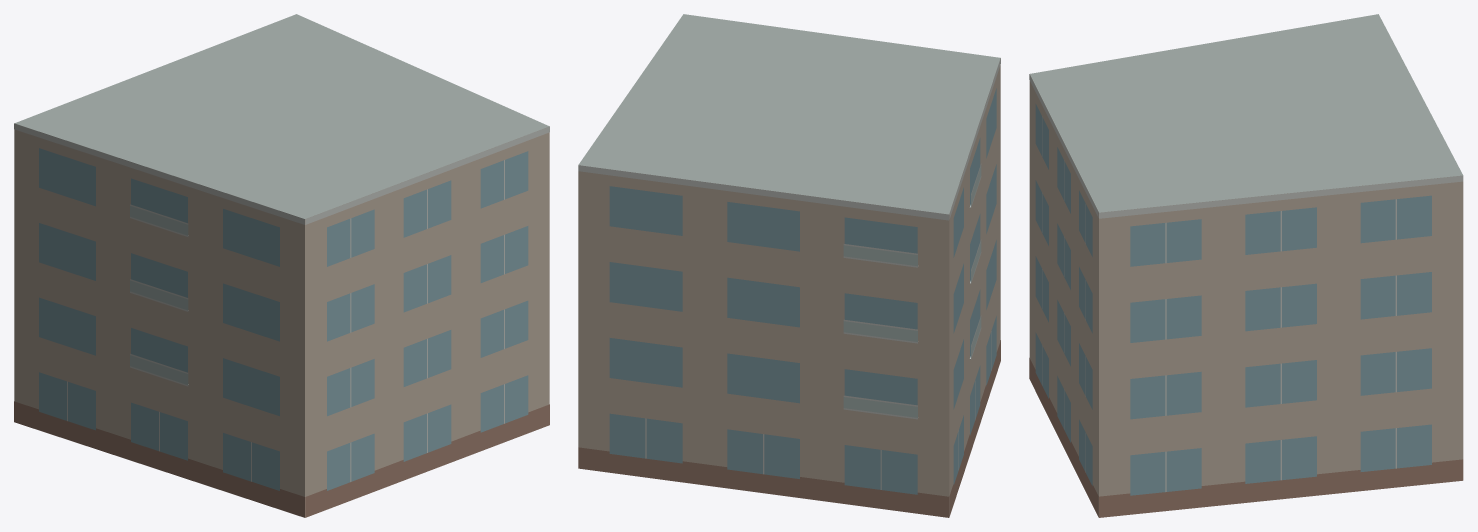
File: survey-upis-33006589.glb
3 views of the same model, side by side, from view 1: azimuth 30°, elevation 25°; view 2: azimuth 150°, elevation 25°; view 3: azimuth 270°, elevation 25° (orthographic). The views are drawn at different scales.
Parts seen in each view (by area): view 1: survey-upis-33006589.tmp; view 2: survey-upis-33006589.tmp; view 3: survey-upis-33006589.tmp.
Boxes of the visible parts, x1,y1,x2,y2 form: survey-upis-33006589.tmp: (14,14,549,517); survey-upis-33006589.tmp: (578,14,1000,517); survey-upis-33006589.tmp: (1029,14,1463,517).
Size of the model in its own units: 17.04 by 12.2 by 15.72.
